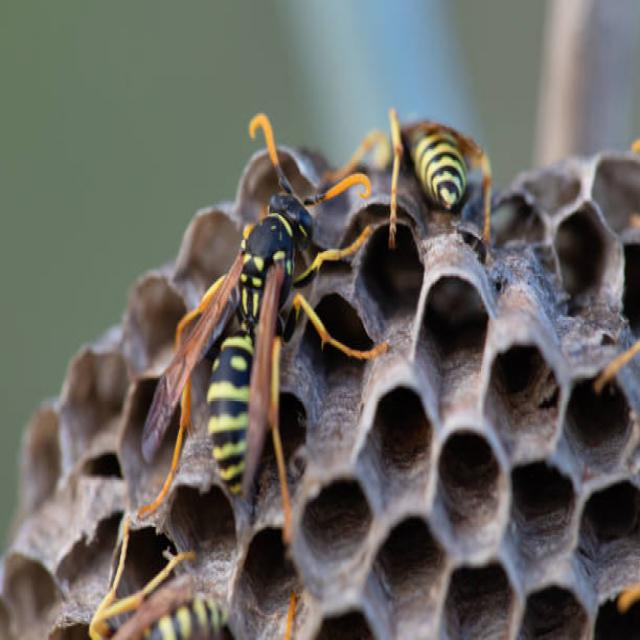Vespa Crabro: (114, 147, 372, 560), (350, 91, 514, 240)
